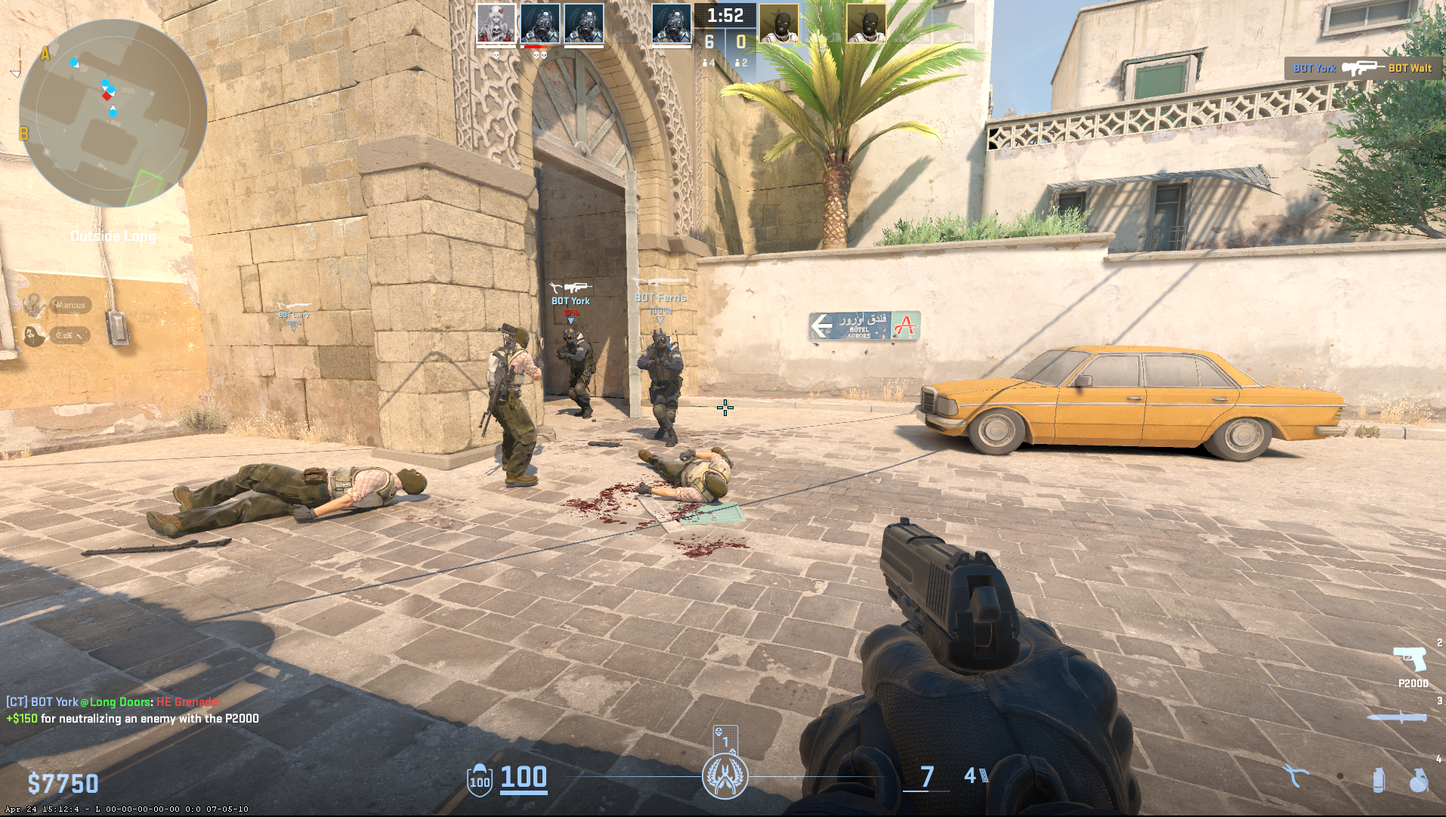CT: (637, 328, 683, 446), (559, 329, 597, 417)
T: (488, 327, 541, 486)
